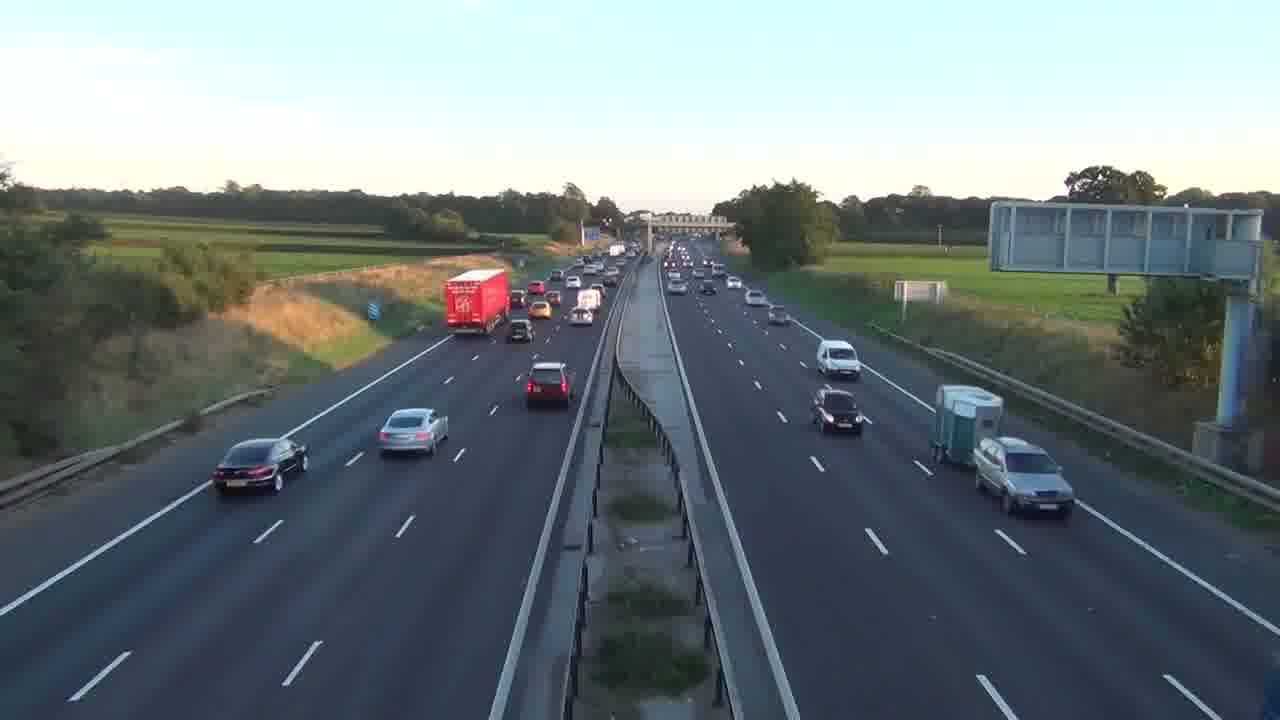bus: (444, 266, 511, 334)
car: (212, 435, 309, 496), (376, 407, 449, 457), (813, 387, 871, 434), (816, 338, 863, 379), (509, 317, 533, 343)
truck: (972, 434, 1075, 519), (931, 384, 1004, 467)
